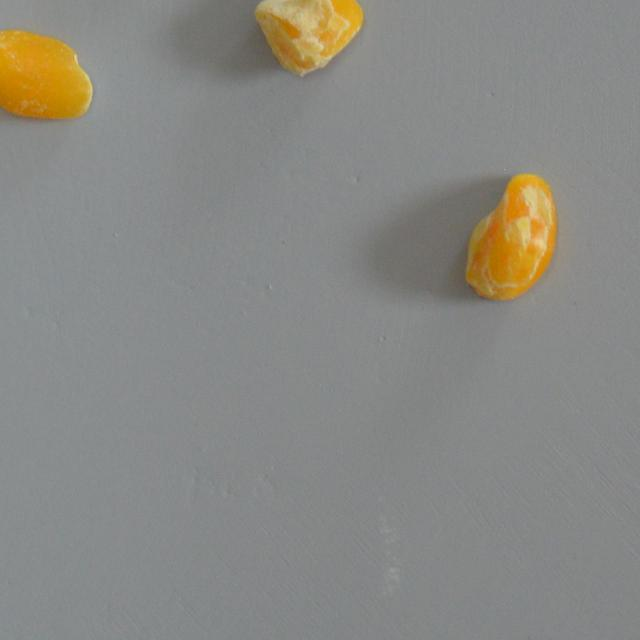dañado: (460, 164, 559, 304), (0, 21, 96, 126), (248, 0, 368, 83)
